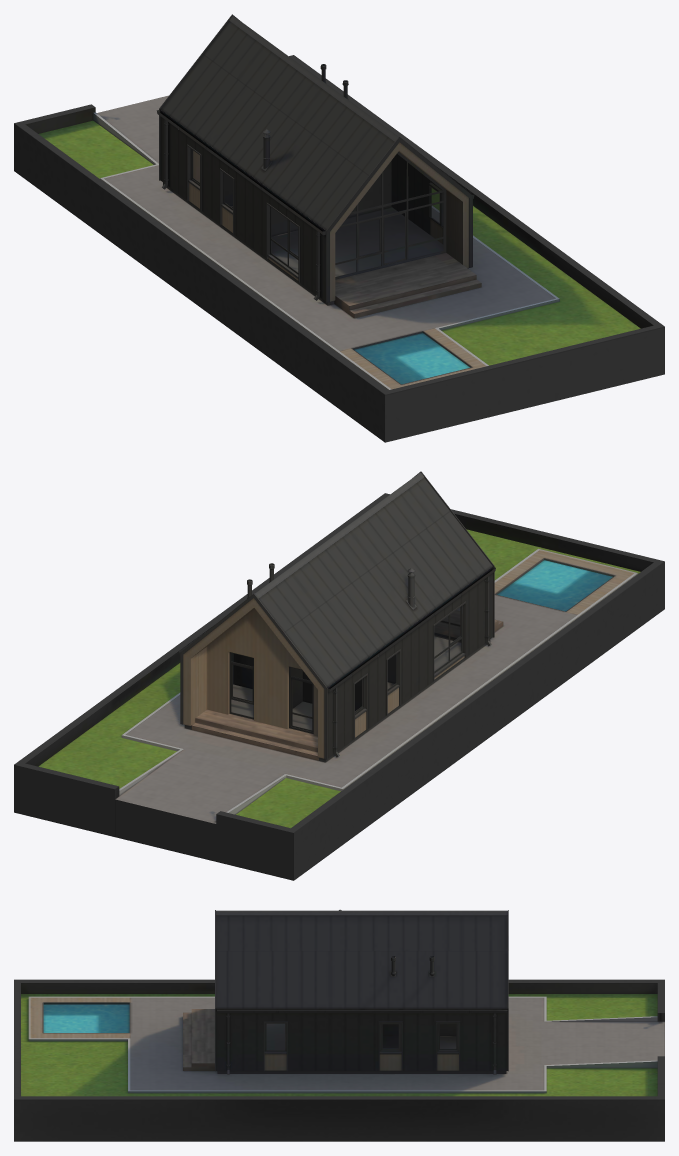
The picture shows the model from 3 angles, top to bottom: view 1: azimuth 30°, elevation 25°; view 2: azimuth 150°, elevation 25°; view 3: azimuth 270°, elevation 25°; orthographic projection. The views are drawn at different scales.
Visible parts, largest first — view 1: Box038; view 2: Box038; view 3: Box038.
Boxes of the visible parts, left/top/right/bottom form: Box038: left=14, top=14, right=664, bottom=442; Box038: left=14, top=471, right=664, bottom=880; Box038: left=14, top=909, right=664, bottom=1141.
Bounding box in the file's own units: 11.64 × 7.57 × 26.74.
2 materials, 1 textured.
